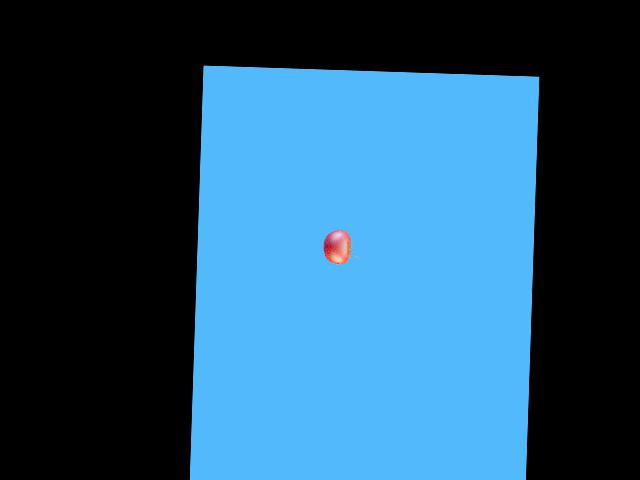tomato: (322, 228, 352, 264)
